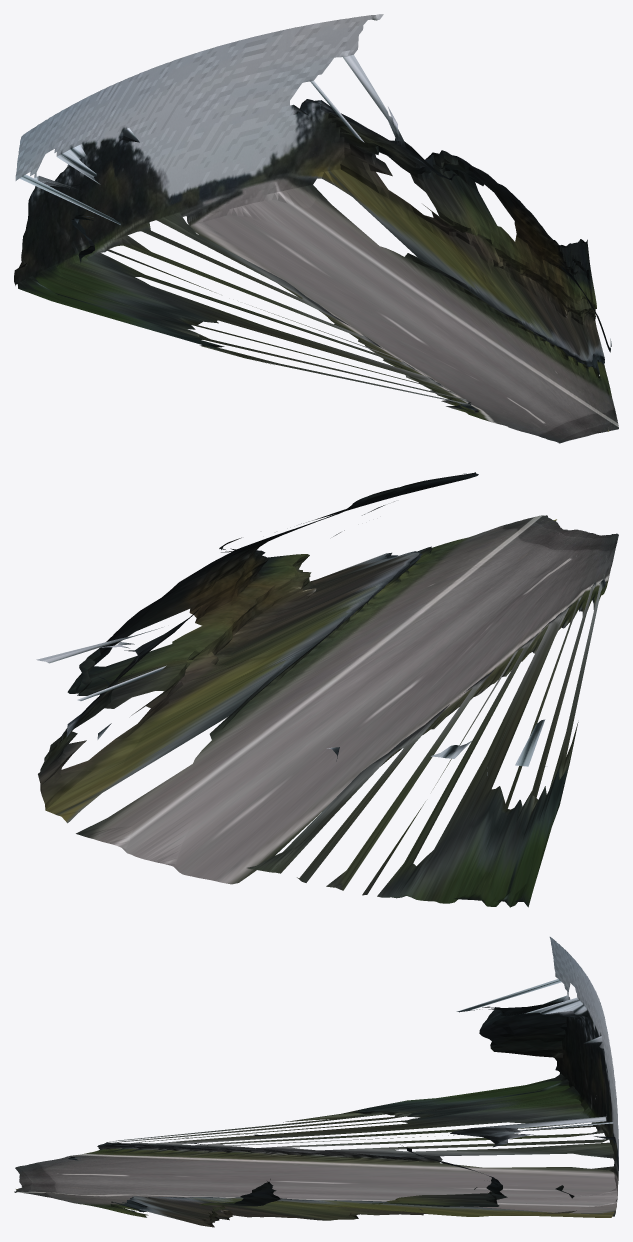
The picture shows the model from 3 angles, top to bottom: view 1: azimuth 30°, elevation 25°; view 2: azimuth 150°, elevation 25°; view 3: azimuth 270°, elevation 25°; orthographic projection. The views are drawn at different scales.
Parts seen in each view (by area): view 1: defaultobject; view 2: defaultobject; view 3: defaultobject.
Part boxes in pixels (left/top/right/bottom): defaultobject: left=14, top=14, right=618, bottom=443; defaultobject: left=36, top=472, right=618, bottom=907; defaultobject: left=14, top=937, right=618, bottom=1227.
Bounding box in the file's own units: 31.73 × 12.85 × 44.82.
1 material, 1 textured.
